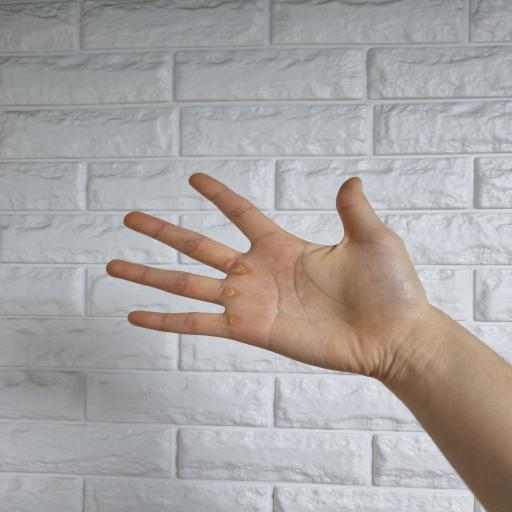Paper: (106, 172, 433, 378)
